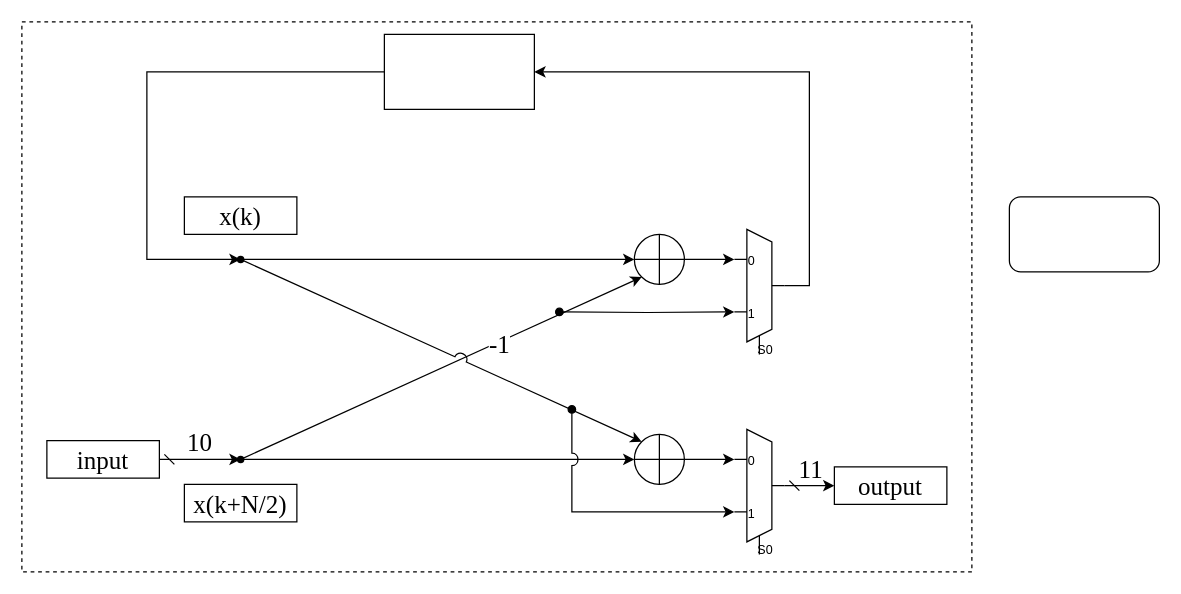
This 1181x594 diagram has some shape labels left out. The shapes that lost their labels are listed below. From the top down, each one's box as (x1, y1, x2, y2) in pixels, then its label:
(383, 33, 534, 109): (N/2) D
(1008, 196, 1159, 272): bf_16
